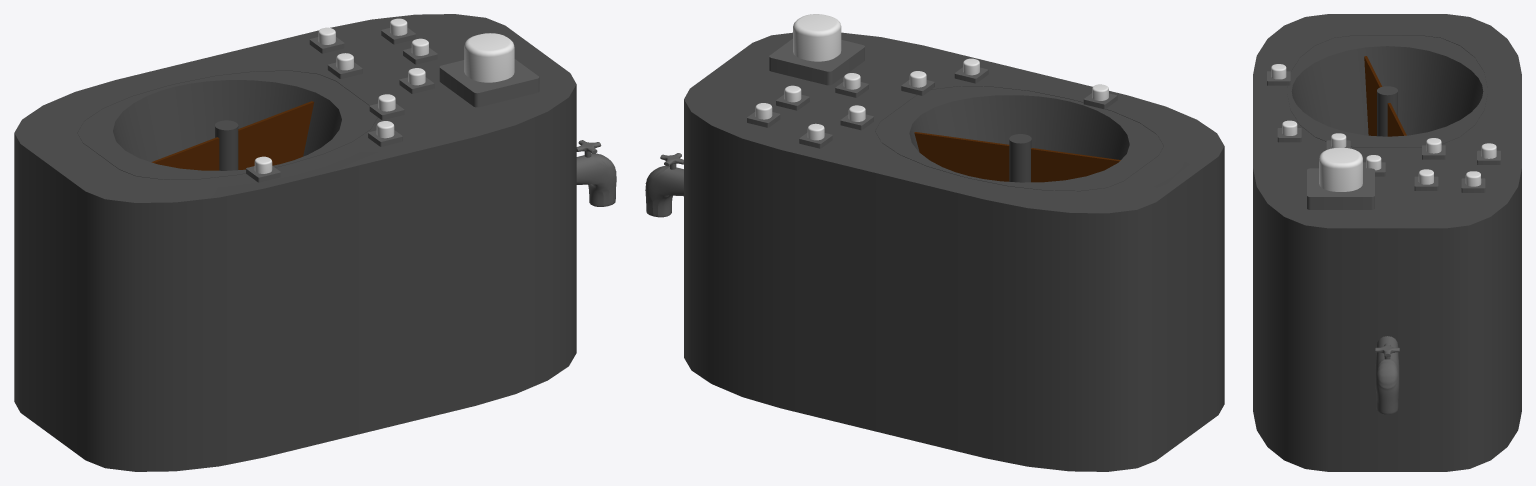
Rendered from mixer.fbx.
The picture shows the model from 3 angles, left to right: view 1: azimuth 30°, elevation 25°; view 2: azimuth 150°, elevation 25°; view 3: azimuth 270°, elevation 25°; orthographic projection. The views are drawn at different scales.
Visible parts, largest first — view 1: Cube, Cube.007, Cube.001, Cube.002, Cube.009, Cube.008; view 2: Cube, Cube.001, Cube.007, Cube.002; view 3: Cube, Cube.007, Cube.002, Cube.001, Cube.013, Cube.004, Cube.010, Cube.011, Cube.008, Cube.009, Cube.012, Cube.006.
Part boxes in pixels (bbox=[...]): Cube: bbox=[14, 14, 576, 471]; Cube.007: bbox=[439, 33, 539, 107]; Cube.001: bbox=[151, 101, 314, 170]; Cube.002: bbox=[576, 153, 616, 206]; Cube.009: bbox=[309, 27, 344, 53]; Cube.008: bbox=[246, 156, 280, 182]; Cube: bbox=[684, 32, 1224, 471]; Cube.001: bbox=[914, 132, 1120, 182]; Cube.007: bbox=[769, 14, 864, 85]; Cube.002: bbox=[645, 166, 683, 217]; Cube: bbox=[1253, 14, 1521, 471]; Cube.007: bbox=[1307, 147, 1374, 209]; Cube.002: bbox=[1375, 336, 1399, 414]; Cube.001: bbox=[1364, 56, 1406, 136]; Cube.013: bbox=[1277, 120, 1301, 142]; Cube.004: bbox=[1414, 169, 1438, 190]; Cube.010: bbox=[1461, 171, 1485, 192]; Cube.011: bbox=[1422, 138, 1445, 159]; Cube.008: bbox=[1267, 64, 1290, 85]; Cube.009: bbox=[1477, 143, 1500, 164]; Cube.012: bbox=[1363, 155, 1385, 176]; Cube.006: bbox=[1326, 133, 1350, 149].
Size of the model in its own units: 113 by 60.16 by 51.67.
